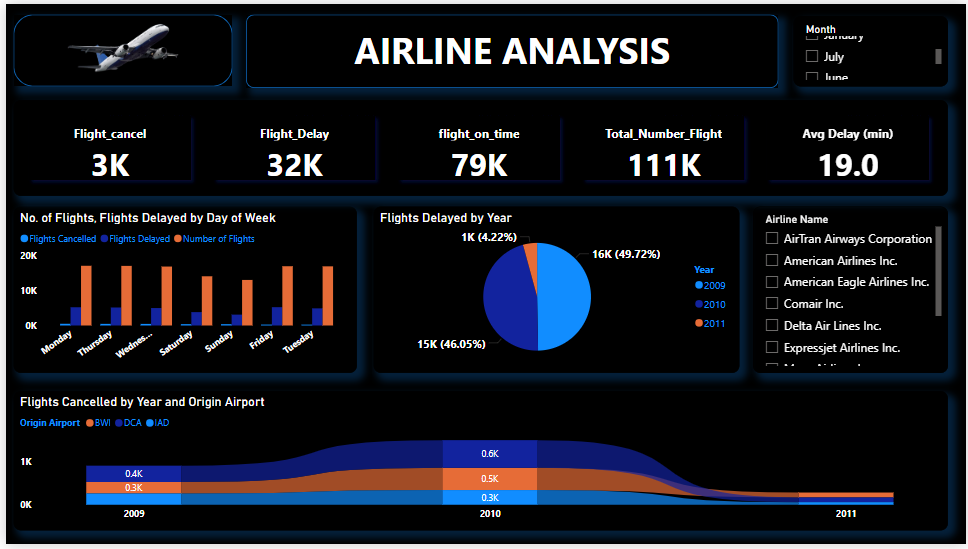

The page's visual inventory and layout, read from the dashboard file:
{"tool":"powerbi","page":{"name":"Page 1","canvas":[1280,720],"ordinal":0},"visuals":[{"type":"shape","box":[320,14,710,98],"z":0},{"type":"textbox","box":[320,22,710,79],"z":1000},{"type":"shape","box":[10,14,292,96],"z":2000},{"type":"slicer","fields":{"Values":["Sheet1.Month"]},"box":[1050,16,206,94],"z":4000},{"type":"clusteredColumnChart","title":"No. of Flights,  Flights Delayed by Day of Week","fields":{"Category":["Sheet1.Day of Week"],"Y":["Sum(Sheet1.Flights Cancelled)","Sum(Sheet1.Flights Delayed)","Sum(Sheet1.Number of Flights)"]},"box":[10,270,458,222],"z":5000},{"type":"ribbonChart","title":"Flights Cancelled by Year and Origin Airport","fields":{"Y":["Sum(Sheet1.Flights Cancelled)"],"Series":["Sheet1.Origin Airport"],"Category":["Sheet1.Year"]},"box":[10,516,1246,186],"z":5001},{"type":"cardVisual","fields":{"Data":["Sheet1.Flight_cancel","Sheet1.Flight_Delay","Sheet1.flight_on_time","Sheet1.Total_Number_Flight","Avg(Sheet1.Avg Delay (min))"]},"box":[10,128,1246,128],"z":5002},{"type":"pieChart","title":"Flights Delayed by Year","fields":{"Category":["Sheet1.Year"],"Y":["Sum(Sheet1.Flights Delayed)"]},"box":[490,270,488,222],"z":5004},{"type":"slicer","fields":{"Values":["Sheet1.Airline Name"]},"box":[996,270,260,222],"z":5005},{"type":"image","box":[0,0,320,112],"z":5006}]}

Visuals, with their boxes in screenshot pixels (x1, y1, x2, y2), scaled from the page's 1280x720 canvas onto the 968x549 screenshot:
shape: detection(242, 11, 779, 85)
textbox: detection(242, 17, 779, 77)
shape: detection(8, 11, 228, 84)
slicer - Sheet1.Month: detection(794, 12, 950, 84)
"No. of Flights,  Flights Delayed by Day of Week" clusteredColumnChart: detection(8, 206, 354, 375)
"Flights Cancelled by Year and Origin Airport" ribbonChart: detection(8, 393, 950, 535)
cardVisual - Sheet1.Flight_cancel x Sheet1.Flight_Delay: detection(8, 98, 950, 195)
"Flights Delayed by Year" pieChart: detection(371, 206, 740, 375)
slicer - Sheet1.Airline Name: detection(753, 206, 950, 375)
image: detection(0, 0, 242, 85)
